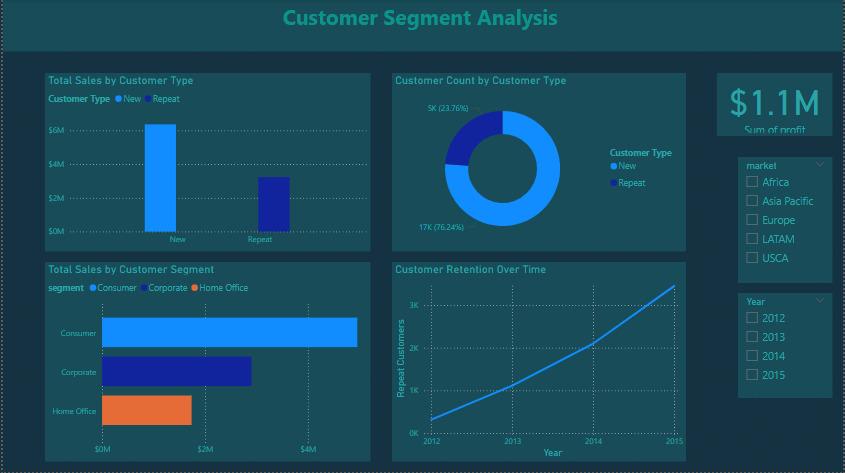

What the dashboard file says about the page in this screenshot:
{"tool":"powerbi","page":{"name":"Customer Insights","canvas":[1280,720],"ordinal":3},"visuals":[{"type":"clusteredColumnChart","title":"Total Sales by Customer Type ","fields":{"Y":["Sales_Fact.Total Sales"],"Category":["Sales_Fact.Customer Type"],"Series":["Sales_Fact.Customer Type"]},"box":[64,112,496,272],"z":0},{"type":"donutChart","fields":{"Category":["Sales_Fact.Customer Type"],"Y":["Sales_Fact.Customer Count"]},"box":[592,112,448,272],"z":1000},{"type":"barChart","title":"Total Sales by Customer Segment","fields":{"Category":["Dim_Customer.segment"],"Y":["Sales_Fact.Total Sales"],"Series":["Dim_Customer.segment"]},"box":[64,400,496,304],"z":2000},{"type":"lineChart","title":"Customer Retention Over Time","fields":{"Category":["Calendar.Year"],"Y":["Sales_Fact.Repeat Customers"]},"box":[592,400,448,304],"z":3000},{"type":"slicer","fields":{"Values":["Dim_Geography.market"]},"box":[1120,240,144,192],"z":4000},{"type":"slicer","fields":{"Values":["Calendar.Year"]},"box":[1120,448,144,160],"z":5000},{"type":"textbox","box":[0,0,1280,80],"z":5001},{"type":"card","fields":{"Values":["Sum(Sales_Fact.profit)"]},"box":[1088,112,176,96],"z":5002}]}

Visuals, with their boxes in screenshot pixels (x1, y1, x2, y2), scaled from the page's 1280x720 canvas onto the 845x473 screenshot:
"Total Sales by Customer Type " clusteredColumnChart: detection(42, 74, 370, 252)
donutChart - Sales_Fact.Customer Type x Sales_Fact.Customer Count: detection(391, 74, 687, 252)
"Total Sales by Customer Segment" barChart: detection(42, 263, 370, 462)
"Customer Retention Over Time" lineChart: detection(391, 263, 687, 462)
slicer - Dim_Geography.market: detection(739, 158, 834, 284)
slicer - Calendar.Year: detection(739, 294, 834, 399)
textbox: detection(0, 0, 844, 53)
card - Sum(Sales_Fact.profit): detection(718, 74, 834, 137)
